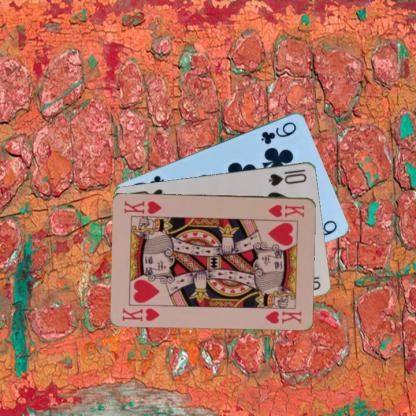10s: (266, 171, 308, 188)
9c: (258, 118, 298, 146)
Kh: (120, 304, 161, 323), (265, 202, 306, 218)
